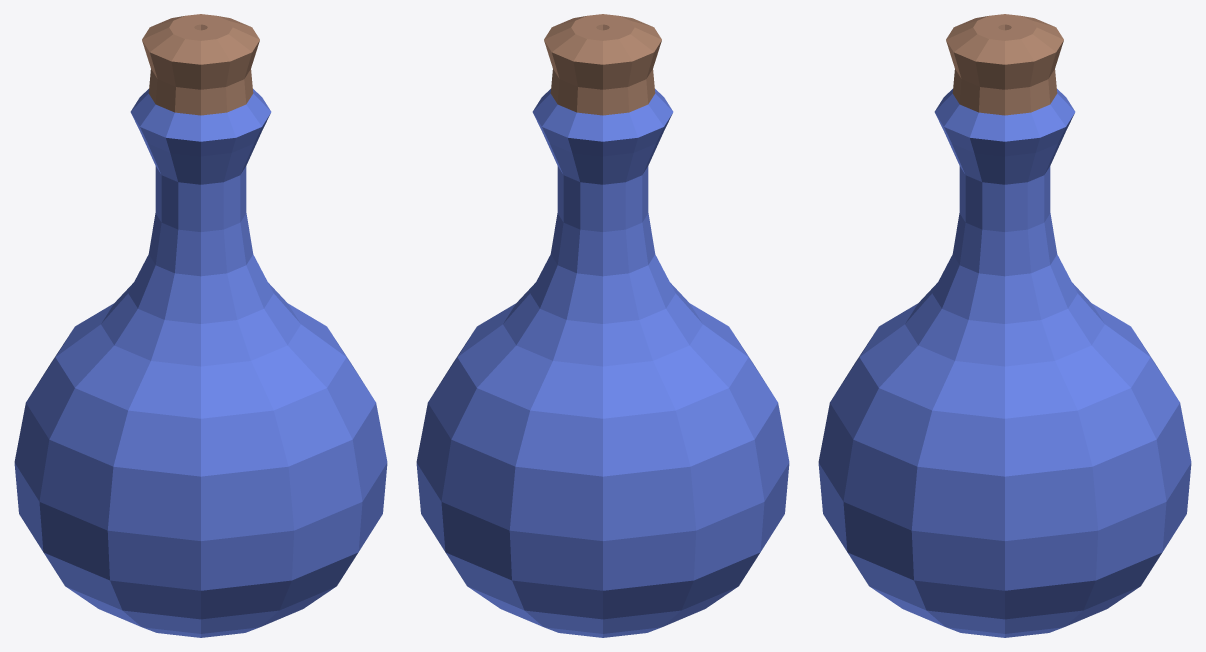
Rendered from Potion.glb.
3 renders of one model, left to right at view 1: azimuth 30°, elevation 25°; view 2: azimuth 150°, elevation 25°; view 3: azimuth 270°, elevation 25°, orthographic.
Parts seen in each view (by area): view 1: Plane.017; view 2: Plane.017; view 3: Plane.017.
Part boxes in pixels (<box>): Plane.017: <box>14,14,387,637</box>; Plane.017: <box>416,14,789,637</box>; Plane.017: <box>818,14,1191,637</box>.
Size of the model in its own units: 2.51 by 4.38 by 2.51.
